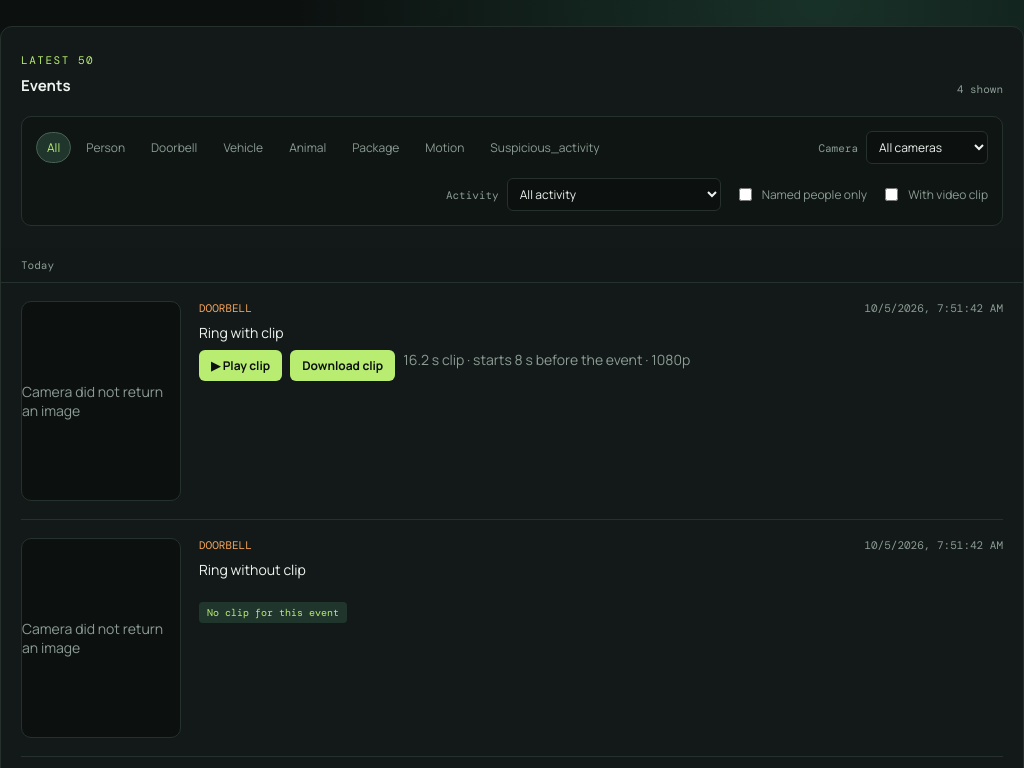
Test: events filters for clips and animals › filters doorbell rings and animals by species
The image size is (1024, 768).
Click the button "doorbell": (174, 148) [140, 132, 208, 163]
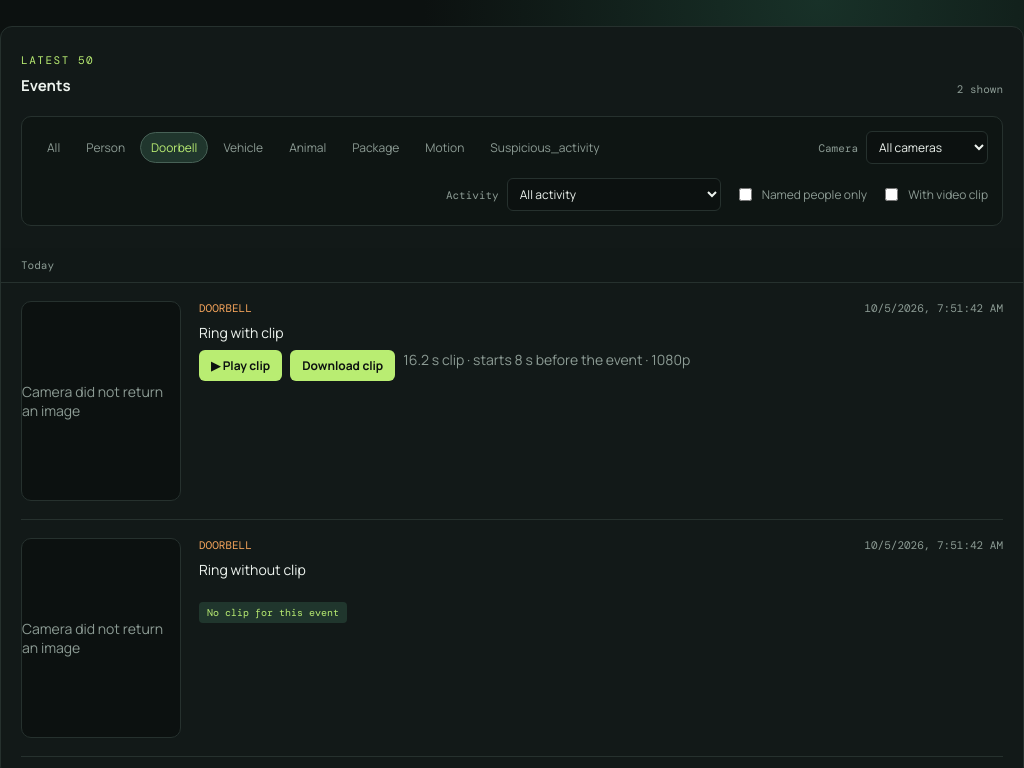
expect the text "Dog on lawn" is not shown: met
Click the button "animal": (308, 148) [278, 132, 337, 163]
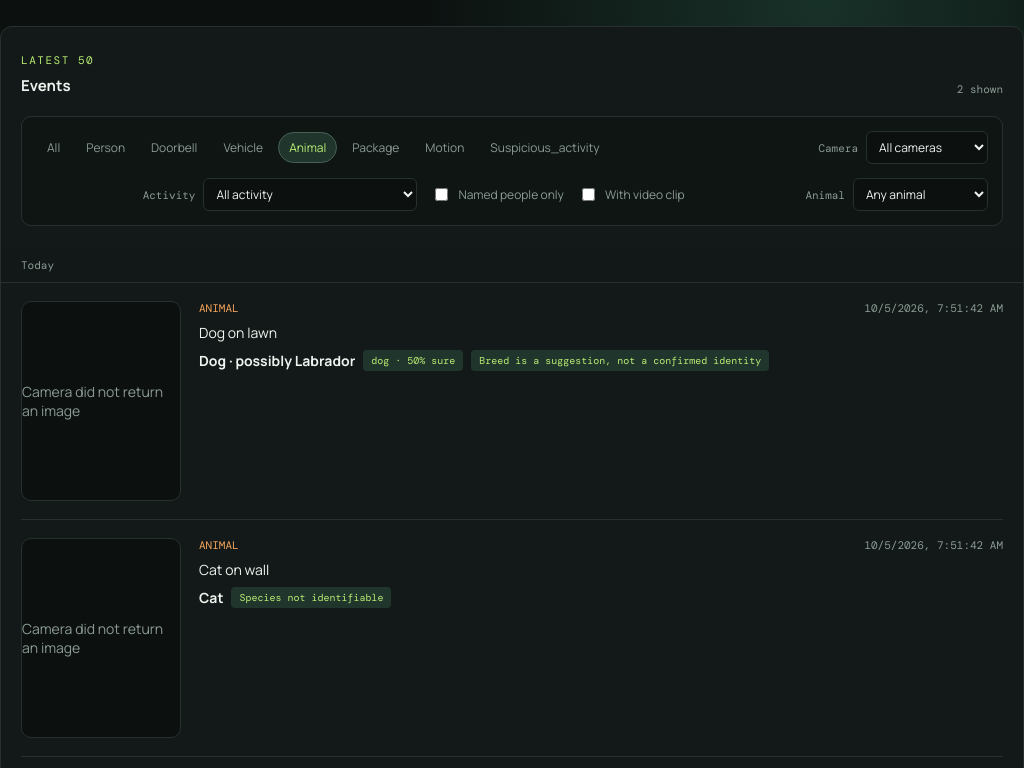
Select "Cats" in the dropdown labelled "Animal": (920, 194) [853, 178, 988, 211]
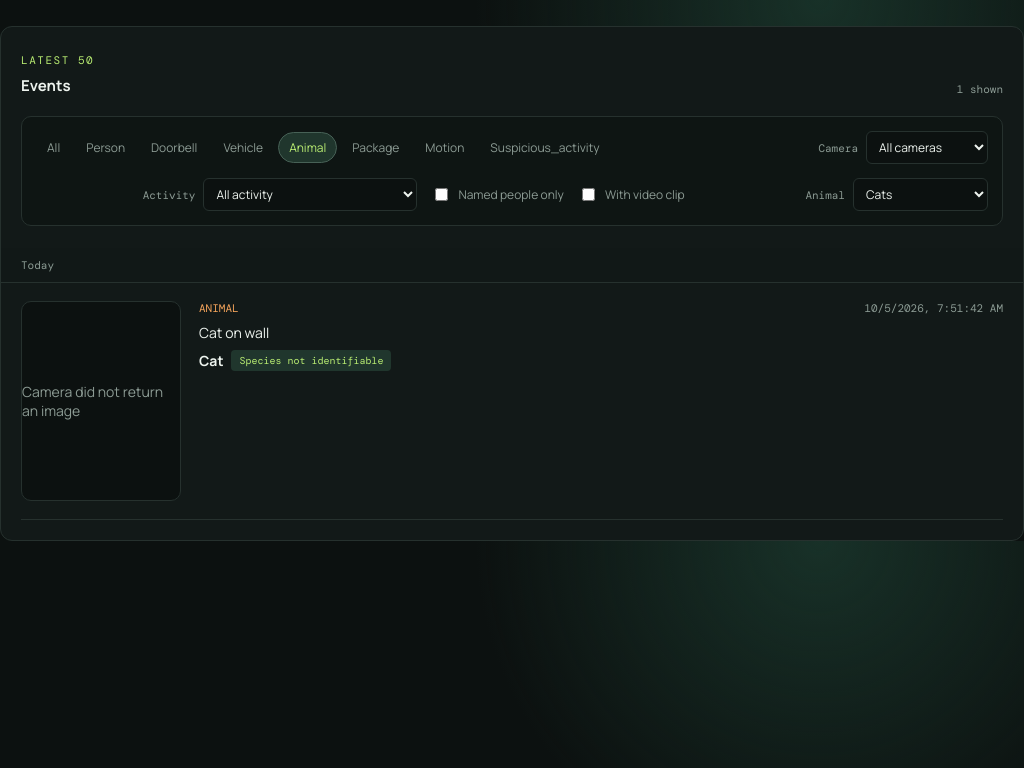
expect the text "Cat on wall" is shown: met, box [199, 323, 269, 342]
expect the text "Dog on lawn" is gone: met
